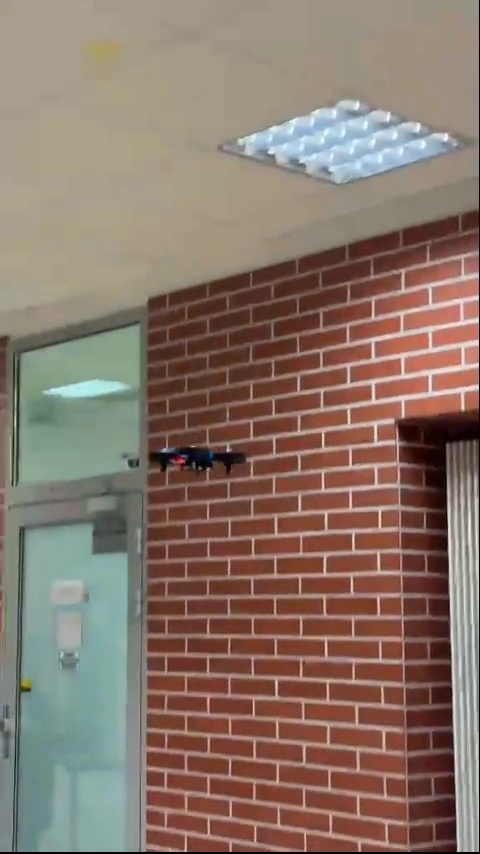drone: (149, 444, 249, 481)
